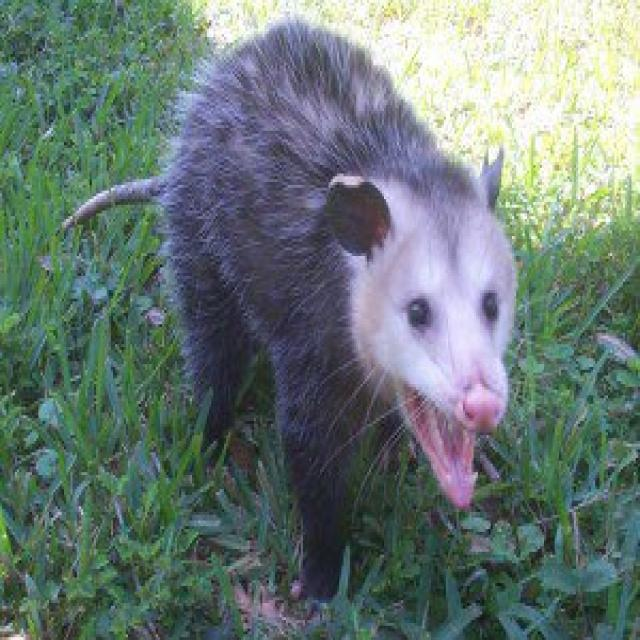Possum: (62, 14, 525, 590)
